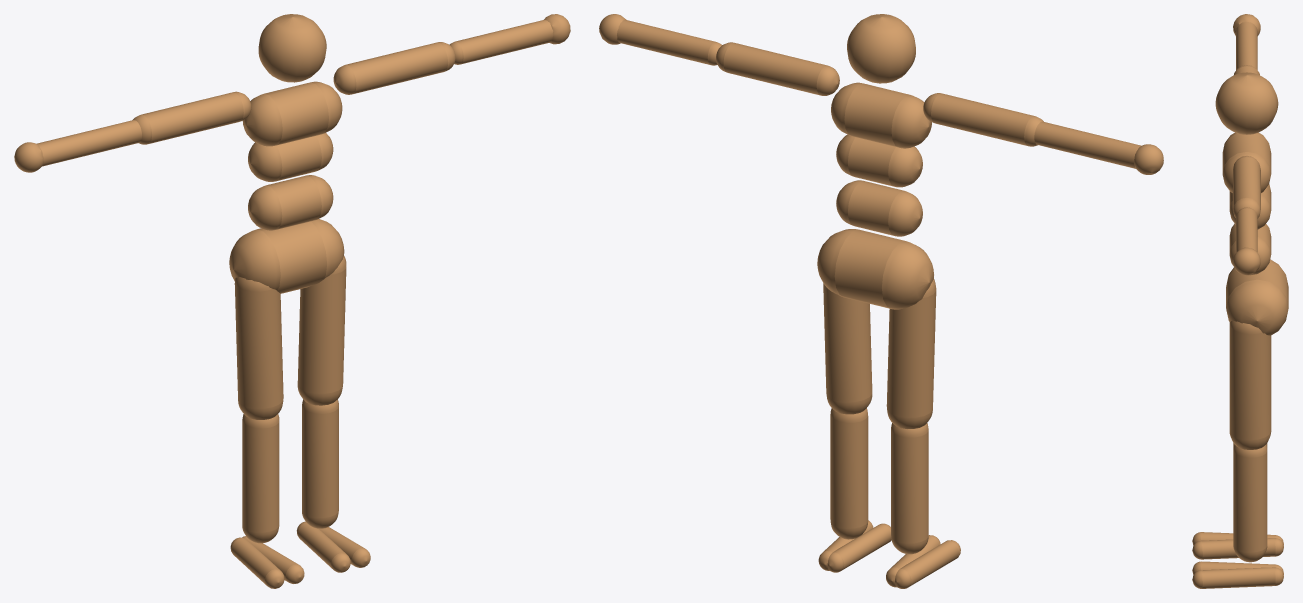
The model's file is humanoid_Tpose_mujoco_binary.fbx.
3 renders of one model, left to right at view 1: azimuth 30°, elevation 25°; view 2: azimuth 150°, elevation 25°; view 3: azimuth 270°, elevation 25°, orthographic. The views are drawn at different scales.
Parts seen in each view (by area): view 1: butt, right_thigh, left_thigh, torso, right_shin, left_shin, head, left_upper_arm, lower_waist, right_upper_arm, upper_waist, right_lower_arm (+6 smaller); view 2: butt, right_thigh, left_thigh, torso, left_shin, right_shin, head, left_upper_arm, lower_waist, right_upper_arm, upper_waist, right_lower_arm (+4 smaller); view 3: left_thigh, left_shin, butt, head, torso, left_left_foot, left_upper_arm, left_right_foot, right_lower_arm, left_lower_arm, lower_waist, left_hand (+5 smaller).
Part boxes in pixels (x1=…): butt: x1=229, y1=219, x2=344, y2=293; right_thigh: x1=234, y1=277, x2=283, y2=419; left_thigh: x1=297, y1=256, x2=346, y2=405; torso: x1=242, y1=81, x2=342, y2=146; right_shin: x1=242, y1=414, x2=279, y2=543; left_shin: x1=302, y1=399, x2=338, y2=528; head: x1=258, y1=14, x2=326, y2=82; left_upper_arm: x1=333, y1=42, x2=455, y2=94; lower_waist: x1=248, y1=175, x2=333, y2=230; right_upper_arm: x1=132, y1=91, x2=251, y2=144; upper_waist: x1=248, y1=133, x2=333, y2=181; right_lower_arm: x1=36, y1=120, x2=141, y2=166; butt: x1=817, y1=229, x2=933, y2=309; right_thigh: x1=886, y1=279, x2=936, y2=428; left_thigh: x1=823, y1=283, x2=872, y2=414; torso: x1=831, y1=82, x2=931, y2=148; left_shin: x1=830, y1=408, x2=868, y2=539; right_shin: x1=891, y1=423, x2=928, y2=554; head: x1=847, y1=14, x2=915, y2=83; left_upper_arm: x1=716, y1=42, x2=839, y2=95; lower_waist: x1=836, y1=180, x2=922, y2=236; right_upper_arm: x1=923, y1=93, x2=1043, y2=146; upper_waist: x1=836, y1=134, x2=922, y2=187; right_lower_arm: x1=1034, y1=121, x2=1141, y2=168; left_thigh: x1=1229, y1=320, x2=1271, y2=449; left_shin: x1=1233, y1=445, x2=1267, y2=562; butt: x1=1226, y1=259, x2=1288, y2=335; head: x1=1215, y1=72, x2=1278, y2=134; torso: x1=1222, y1=132, x2=1271, y2=192; left_left_foot: x1=1192, y1=567, x2=1283, y2=588; left_upper_arm: x1=1233, y1=156, x2=1260, y2=218; left_right_foot: x1=1192, y1=538, x2=1283, y2=559; right_lower_arm: x1=1236, y1=21, x2=1257, y2=69; left_lower_arm: x1=1236, y1=207, x2=1257, y2=252; lower_waist: x1=1229, y1=223, x2=1271, y2=275; left_hand: x1=1233, y1=247, x2=1260, y2=275.
Bounding box in the file's own units: 167 × 156 × 27.69.
